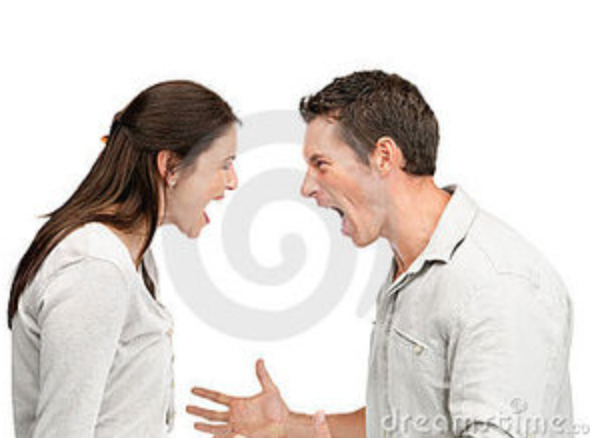Bad: (6, 69, 572, 408)
